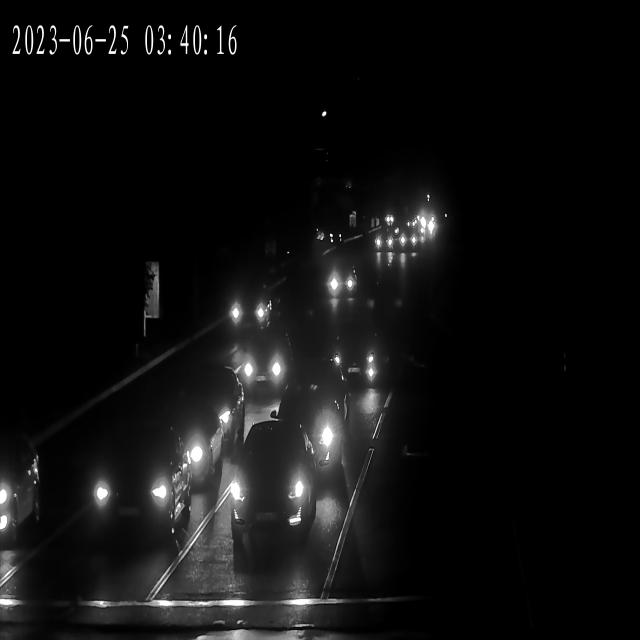Car: (89, 442, 191, 554), (230, 426, 313, 546), (282, 374, 341, 482), (156, 398, 217, 490), (0, 424, 42, 544), (192, 373, 247, 445), (328, 326, 381, 390), (229, 278, 275, 341), (324, 260, 358, 306), (375, 224, 396, 258), (417, 211, 439, 238), (401, 232, 416, 252)
